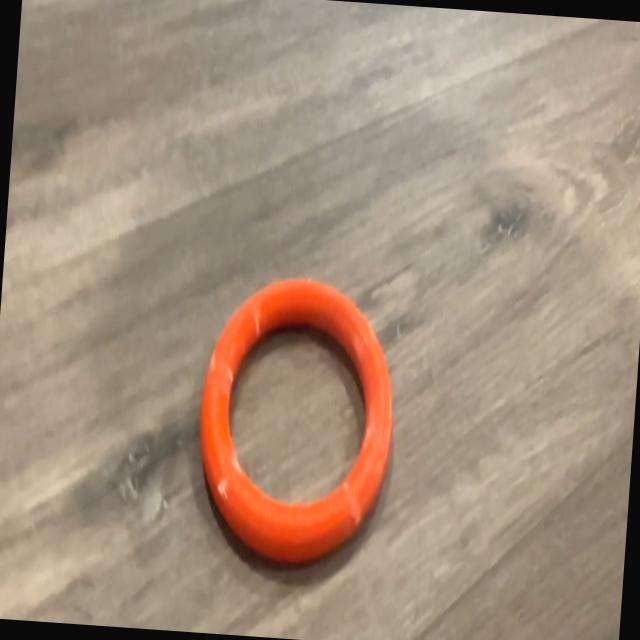note: (191, 268, 402, 573)
